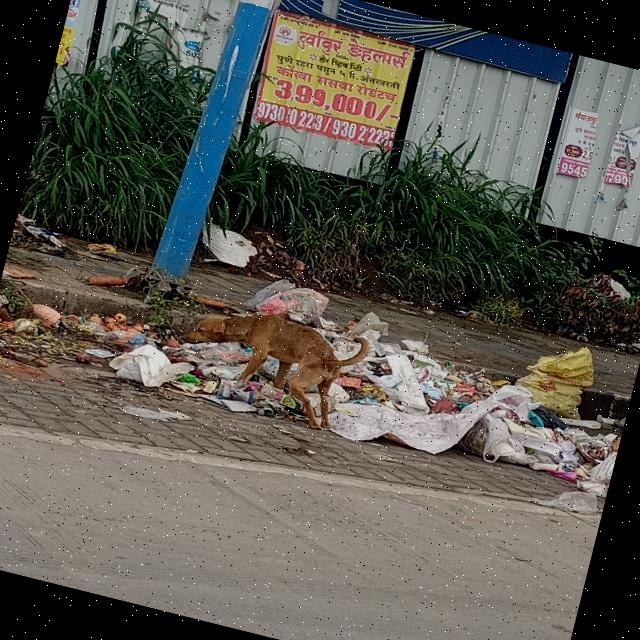garbage: (0, 225, 634, 501)
